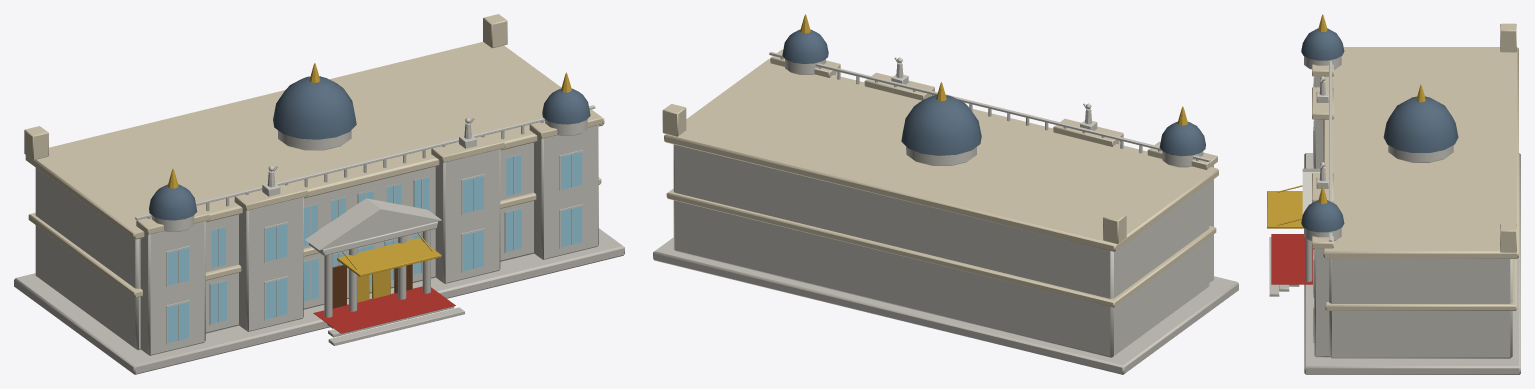
The model's file is 121_casino.fbx.
The picture shows the model from 3 angles, left to right: view 1: azimuth 30°, elevation 25°; view 2: azimuth 150°, elevation 25°; view 3: azimuth 270°, elevation 25°; orthographic projection. The views are drawn at different scales.
Parts seen in each view (by area): view 1: Facade, Entree, Vitres, Coupoles; view 2: Facade, Coupoles; view 3: Facade, Coupoles, Entree.
Boxes of the visible parts, x1,y1,x2,y2 form: Facade: [14, 42, 624, 374]; Entree: [305, 198, 464, 345]; Vitres: [167, 152, 582, 343]; Coupoles: [24, 14, 590, 231]; Facade: [653, 49, 1238, 374]; Coupoles: [662, 14, 1205, 243]; Facade: [1304, 47, 1520, 374]; Coupoles: [1301, 14, 1516, 252]; Entree: [1267, 168, 1320, 296].
Size of the model in its own units: 16.8 by 6.72 by 8.4.
Materials: 1 (1 with a texture image).
